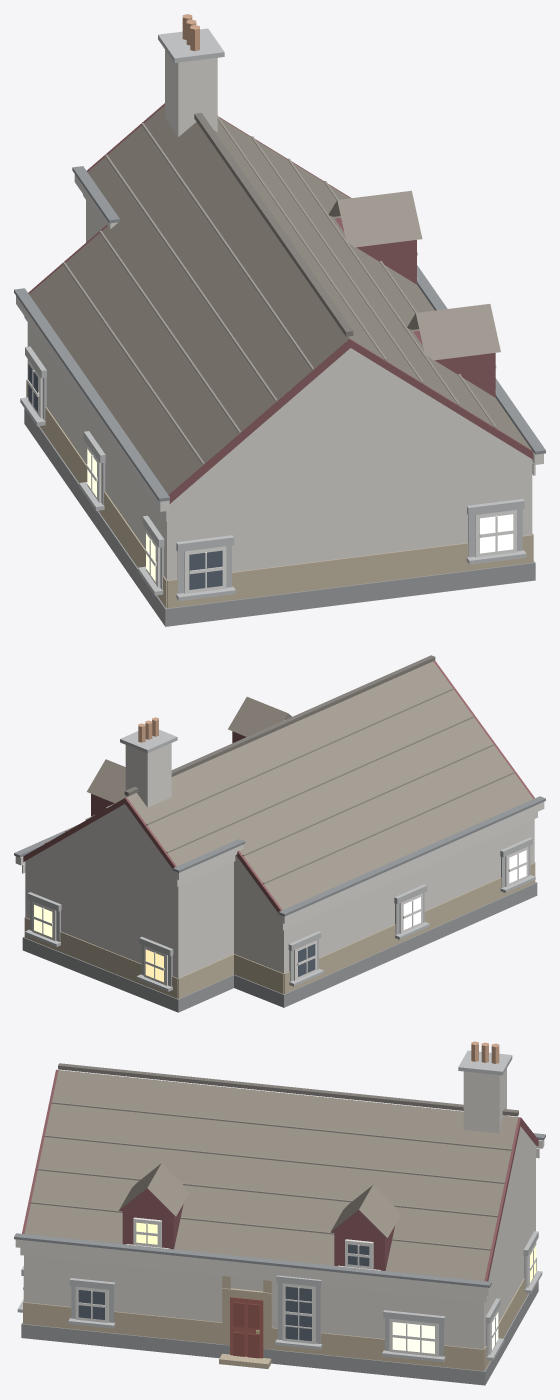
The picture shows the model from 3 angles, top to bottom: view 1: azimuth 30°, elevation 25°; view 2: azimuth 150°, elevation 25°; view 3: azimuth 270°, elevation 25°; orthographic projection. The views are drawn at different scales.
Parts seen in each view (by area): view 1: tile_brown, harl_grey, ss_joint, plinth, timber_maroon, stone_band, plaque, lead, chim_render, windows, frame, pend_in (+1 smaller); view 2: tile_brown, harl_grey, ss_joint, plinth, string, stone_band, plaque, lead, timber_maroon, chim_render, windows, frame (+1 smaller); view 3: tile_brown, harl_grey, ss_joint, string, plinth, stone_band, timber_maroon, plaque, windows, frame, lead, pend_in (+4 smaller).
Boxes of the visible parts, x1=… form: tile_brown: x1=29, y1=105, x2=531, y2=494; harl_grey: x1=27, y1=200, x2=532, y2=580; ss_joint: x1=26, y1=379, x2=533, y2=608; plinth: x1=24, y1=408, x2=535, y2=626; timber_maroon: x1=28, y1=103, x2=533, y2=503; stone_band: x1=20, y1=28, x2=526, y2=601; plaque: x1=63, y1=116, x2=496, y2=464; lead: x1=14, y1=166, x2=545, y2=501; chim_render: x1=165, y1=50, x2=217, y2=136; windows: x1=28, y1=364, x2=513, y2=589; frame: x1=27, y1=252, x2=516, y2=593; pend_in: x1=194, y1=113, x2=353, y2=336; tile_brown: x1=87, y1=661, x2=532, y2=909; harl_grey: x1=25, y1=804, x2=534, y2=978; ss_joint: x1=24, y1=862, x2=535, y2=998; plinth: x1=22, y1=882, x2=537, y2=1012; string: x1=15, y1=802, x2=544, y2=930; stone_band: x1=24, y1=729, x2=535, y2=991; plaque: x1=45, y1=688, x2=514, y2=884; lead: x1=14, y1=796, x2=545, y2=916; timber_maroon: x1=23, y1=660, x2=534, y2=912; chim_render: x1=125, y1=743, x2=171, y2=807; windows: x1=34, y1=850, x2=526, y2=982; frame: x1=32, y1=846, x2=528, y2=985; tile_brown: x1=24, y1=1070, x2=518, y2=1280; harl_grey: x1=24, y1=1126, x2=535, y2=1349; ss_joint: x1=23, y1=1260, x2=536, y2=1370; string: x1=15, y1=1140, x2=544, y2=1302; plinth: x1=21, y1=1281, x2=538, y2=1385; stone_band: x1=17, y1=1050, x2=542, y2=1362; timber_maroon: x1=22, y1=1069, x2=538, y2=1281; plaque: x1=30, y1=1101, x2=511, y2=1250; windows: x1=78, y1=1222, x2=536, y2=1353; frame: x1=23, y1=1217, x2=536, y2=1356; lead: x1=14, y1=1133, x2=545, y2=1287; pend_in: x1=58, y1=1063, x2=518, y2=1116.
Bounding box in the file's own units: 12.5 × 9.01 × 15.77.
